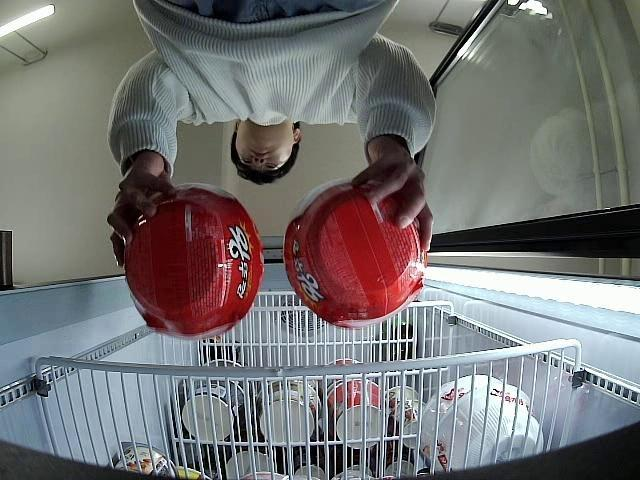10_wangTtukkeong: (122, 184, 261, 340), (284, 179, 426, 328)
